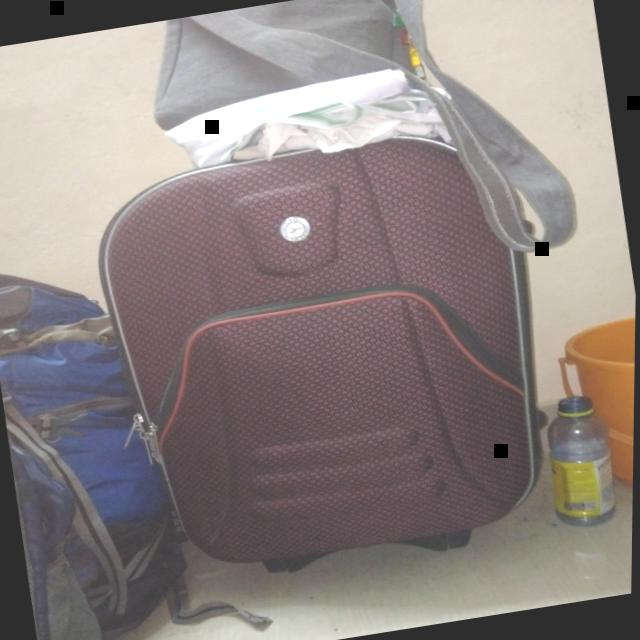luggage: (72, 111, 580, 593)
